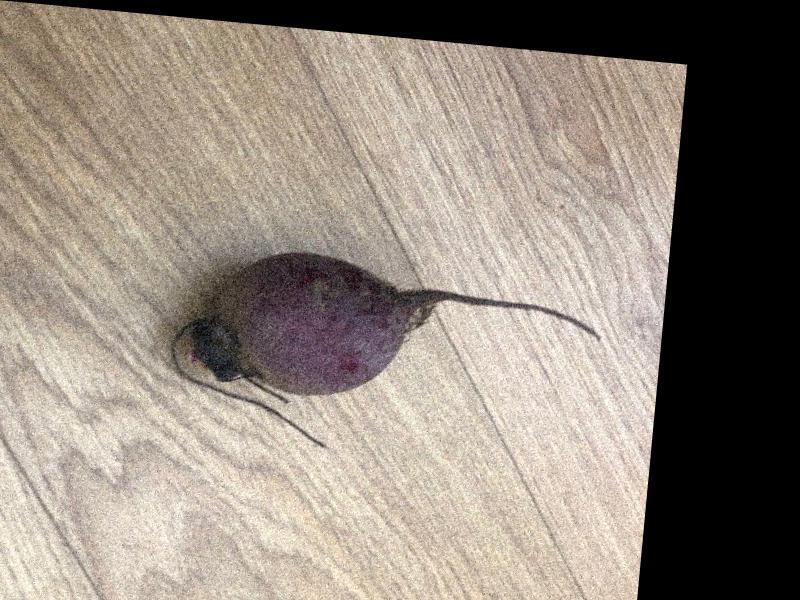Beet: (163, 239, 607, 472)
